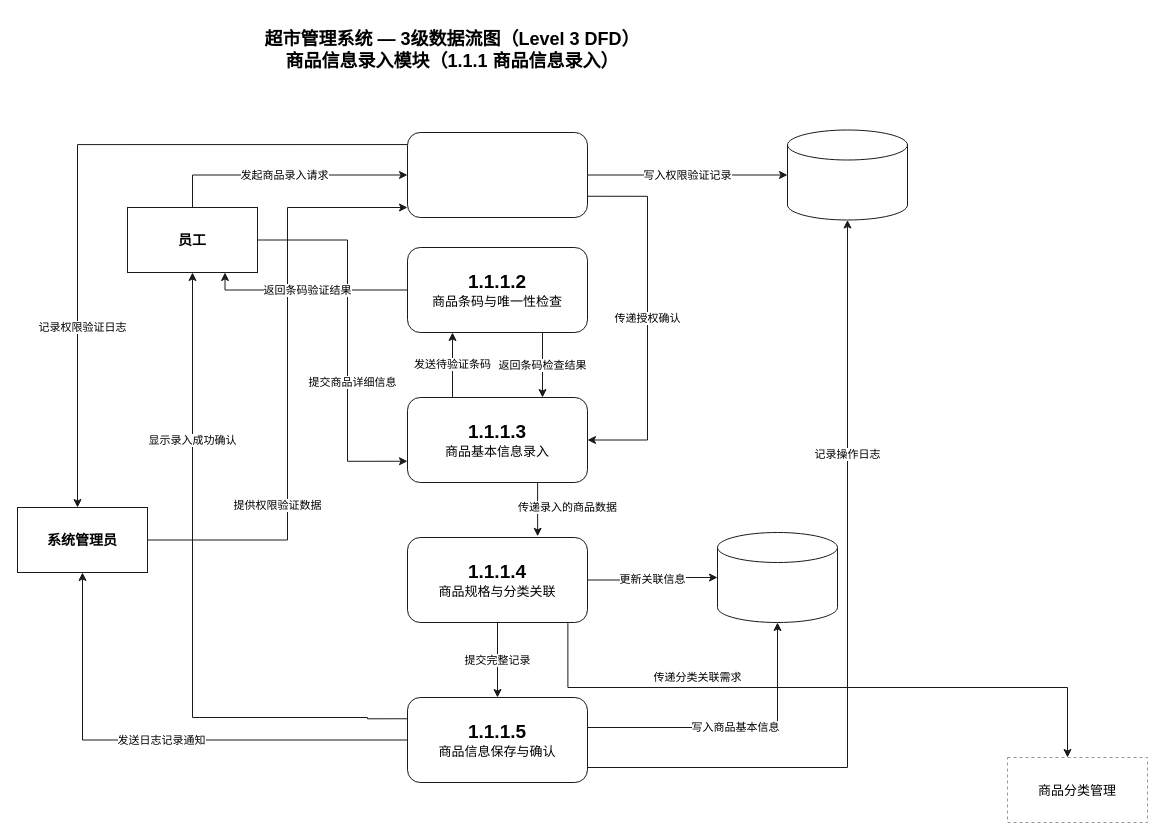
Some shapes in this 1165 by 840 pixel diagram are drawn without their labels. Here are the shapes that lost their labels. From the top down, the centre of each, then its label:
At (x=497, y=175): "1.1.1.1 操作权限验证".
At (x=847, y=174): "D1.1.1 商品操作日志文件".
At (x=777, y=577): "D1.1 商品基本信息文件".
